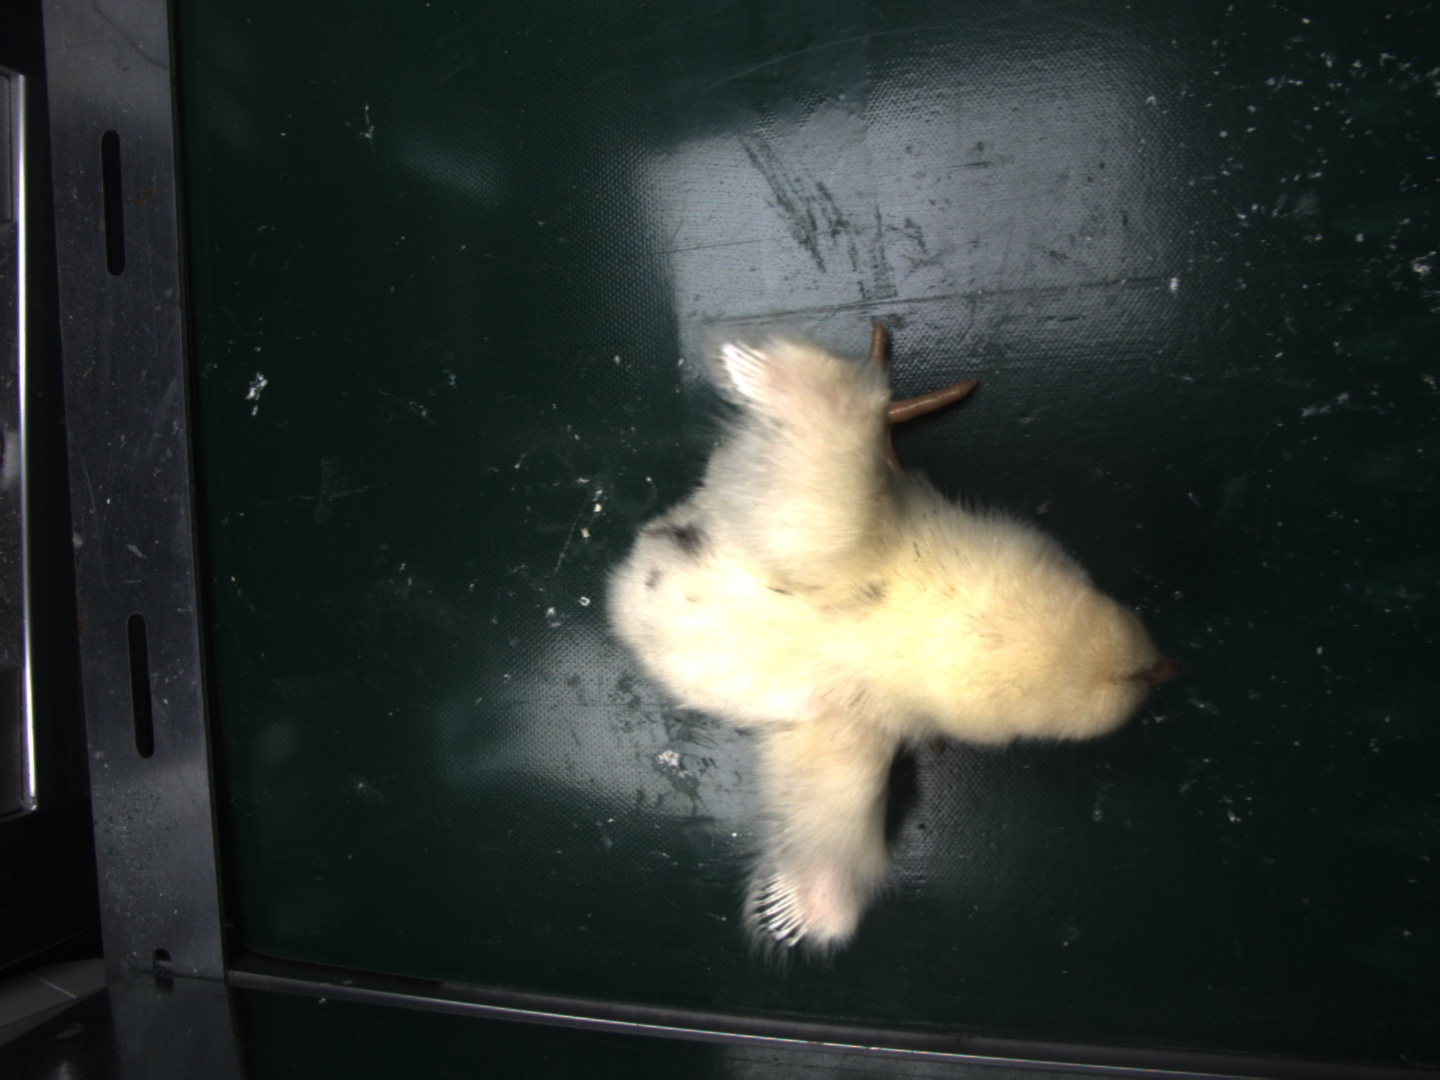male: (756, 876, 814, 943)
